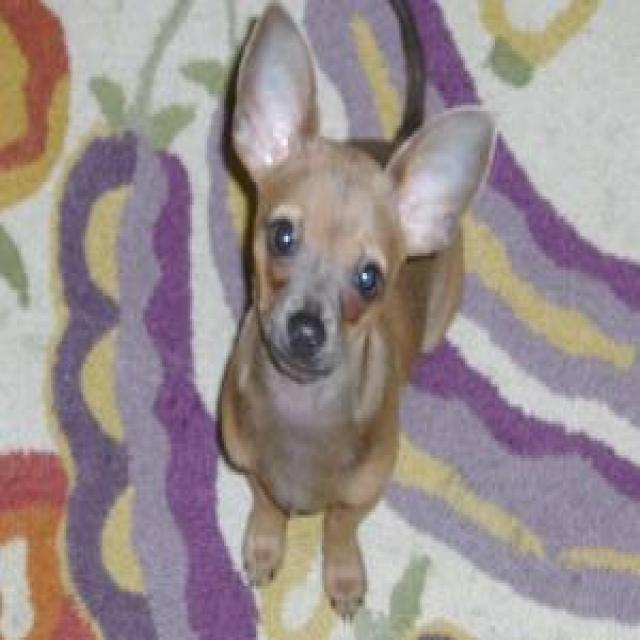dog-chihuahua: (209, 3, 503, 629)
